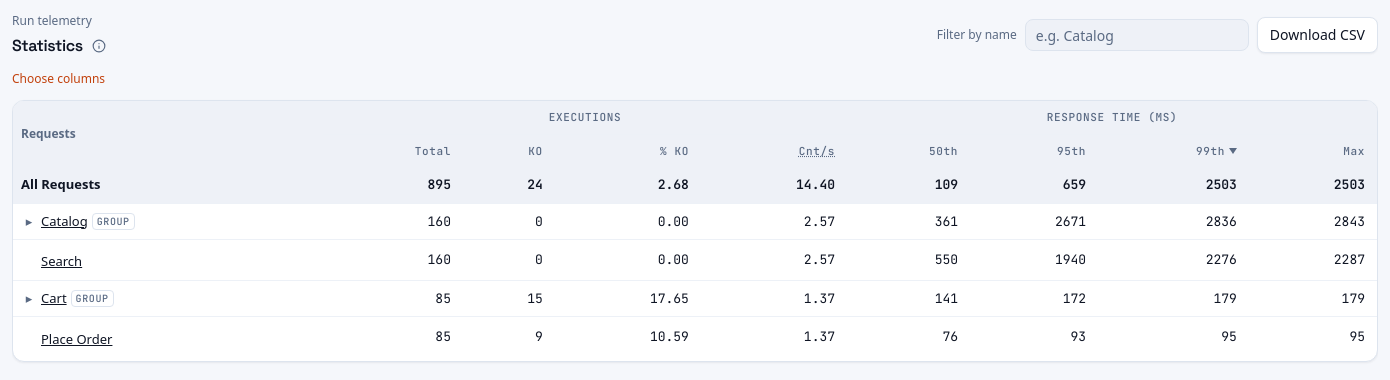
Scenario: StatisticsTable — the name filter (G-14) › gives the whole table back when the box is cleared
In the search field labelled "Filter by name": (1137, 35) [1025,19,1249,51], type "Recommend"
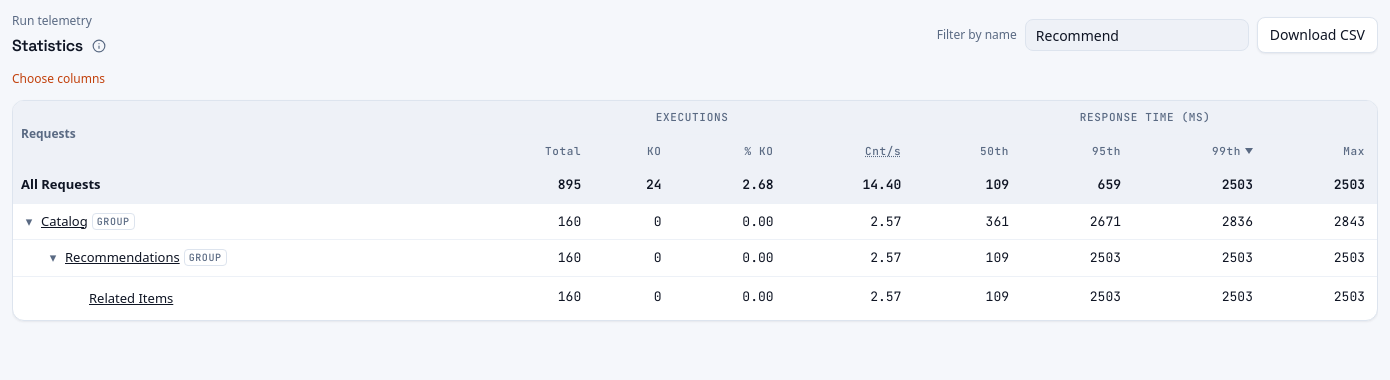
Clear the search field labelled "Filter by name": (1137, 35) [1025,19,1249,51]
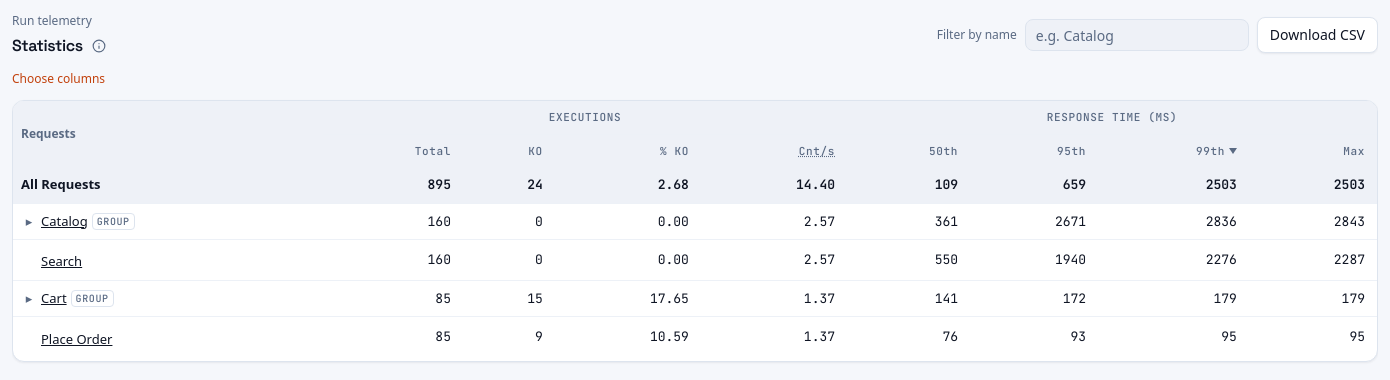
Check: the link "Recommendations" is gone
Check: the button named "expand Catalog" is shown, box [21,212,37,231]
